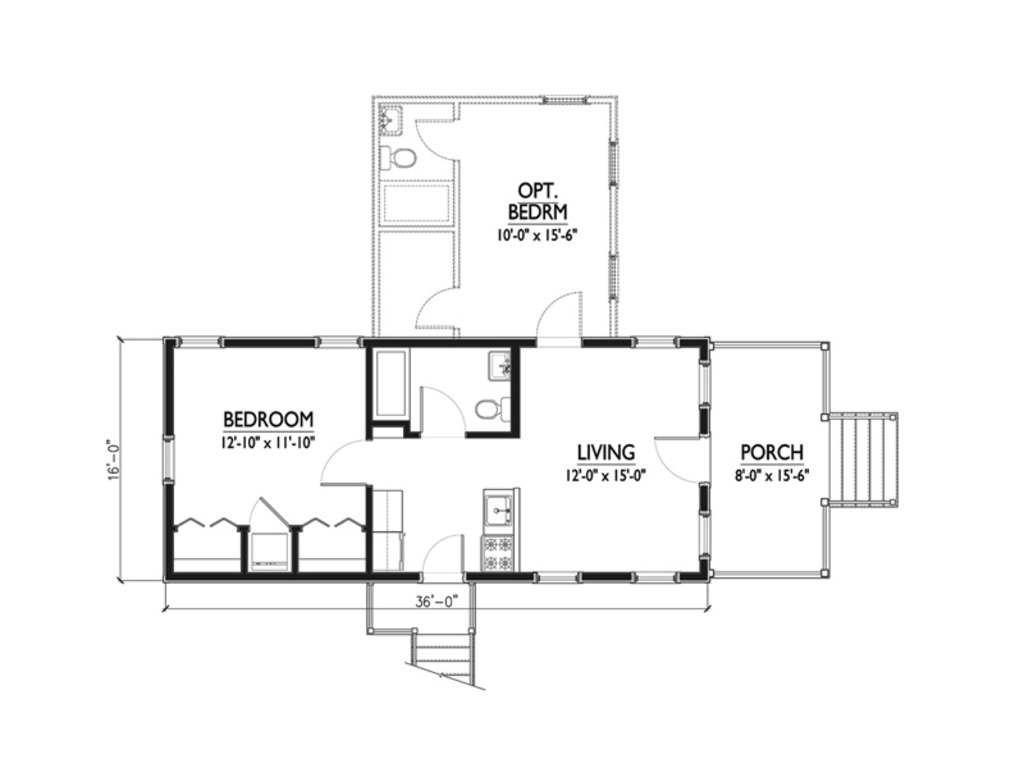door: (651, 432, 716, 487), (317, 438, 374, 495), (533, 287, 585, 349), (413, 383, 468, 437), (418, 533, 468, 584), (413, 284, 463, 334), (412, 113, 459, 161), (246, 494, 288, 529)
large_sink: (472, 393, 512, 428), (379, 143, 418, 174)
small_sink: (484, 344, 512, 387), (381, 105, 403, 142)
stairs: (364, 581, 474, 684), (817, 410, 900, 513)
tub: (370, 348, 418, 428), (379, 181, 455, 229)
windows: (627, 565, 681, 591), (696, 352, 716, 416), (624, 332, 682, 354), (173, 331, 228, 352), (308, 333, 362, 352), (157, 432, 176, 484), (698, 512, 716, 561), (528, 570, 581, 586)
